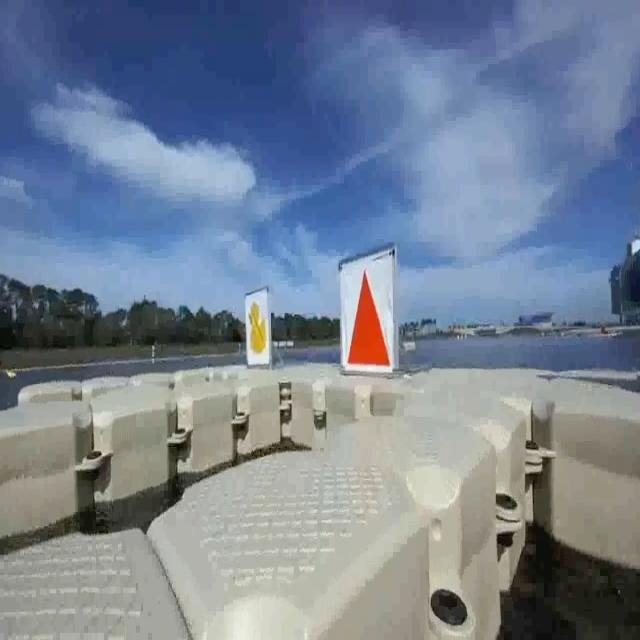red-dot: (341, 266, 391, 368)
yellow-duck: (244, 294, 273, 368)
